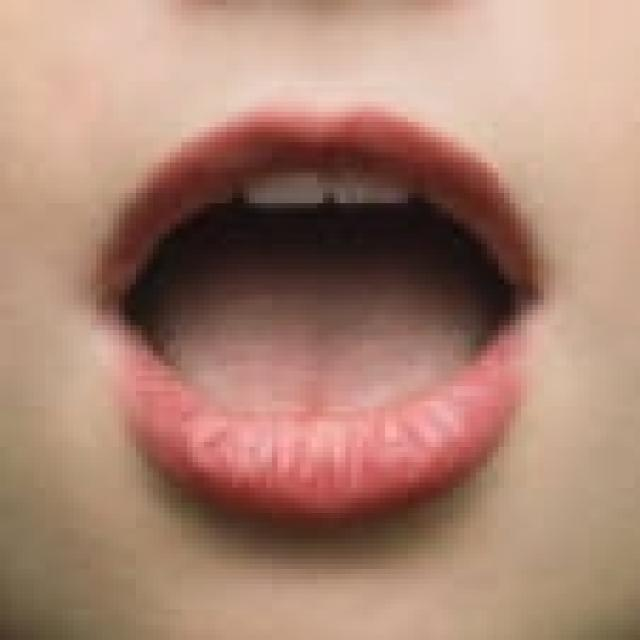open-mouth: (84, 91, 550, 528)
